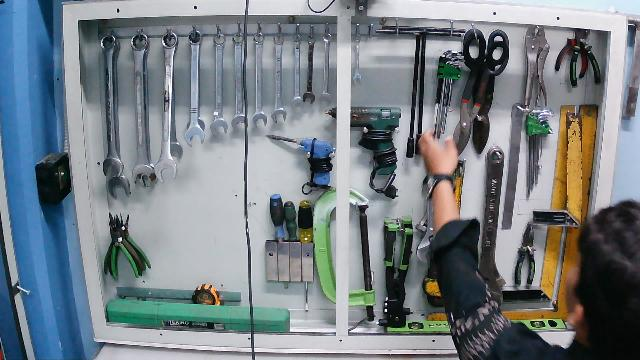kunci_l: (426, 48, 469, 140)
